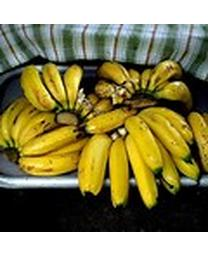banana: (0, 62, 207, 205)
